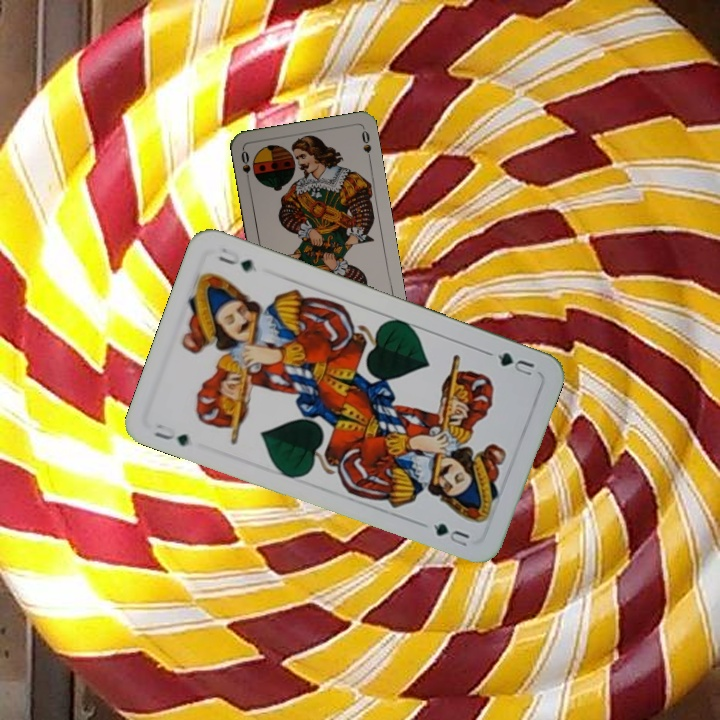GU: (493, 348, 537, 379), (150, 420, 192, 449)
SO: (237, 146, 253, 187)
